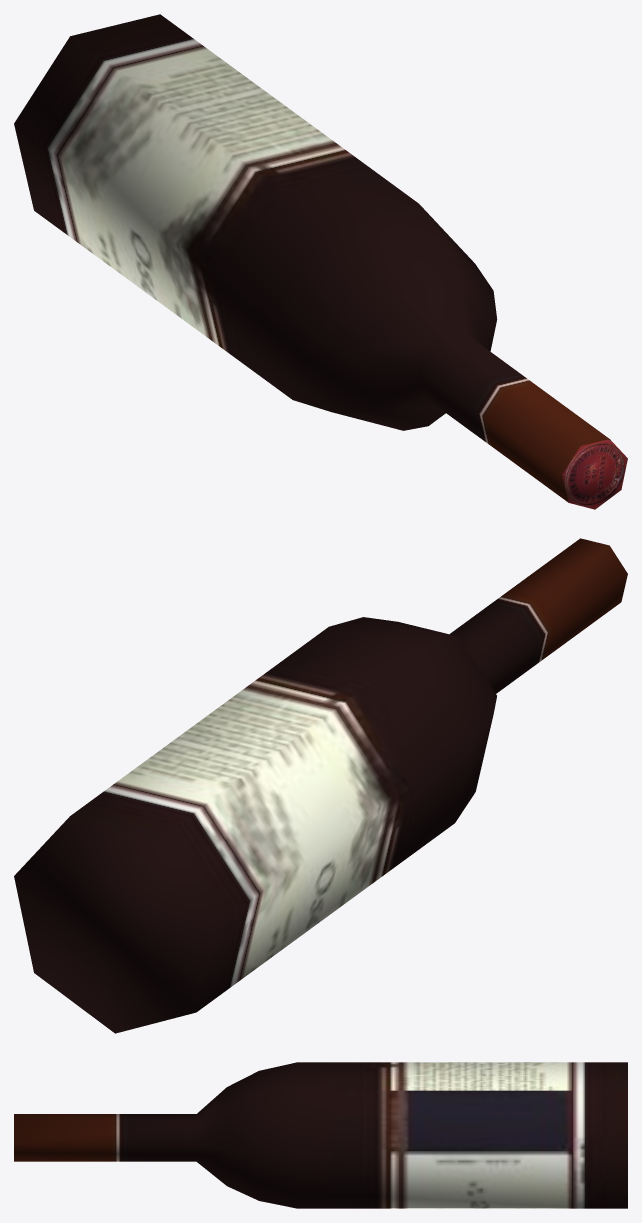
Rendered from prop_winebottle_breakable.glb.
3 views of the same model, one above another, from view 1: azimuth 30°, elevation 25°; view 2: azimuth 150°, elevation 25°; view 3: azimuth 270°, elevation 25° (orthographic). The views are drawn at different scales.
Size of the model in its own units: 3.58 by 3.49 by 14.71.
Materials: 1 (1 with a texture image).
